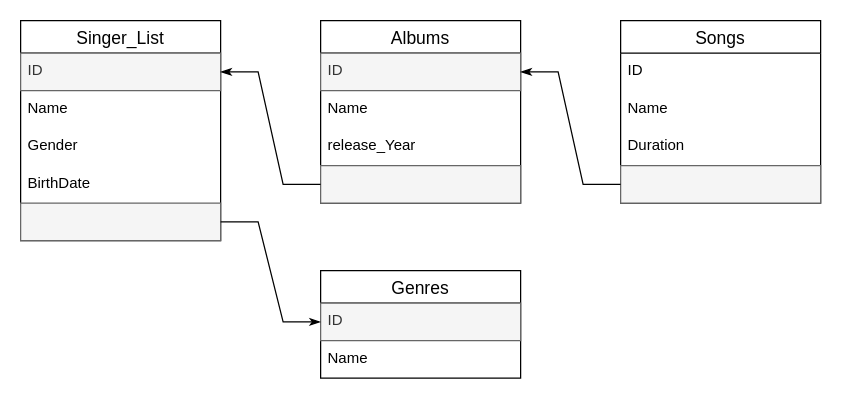
The diagram is 841 pixels wide and 399 high, and some of its shapes have lost their labels. The shapes that lost their labels are listed below. From the top down, each one's centre as x and y in pixels, then its label:
At point (420, 183): "Singer_ID".
At point (720, 183): "Album_ID".
At point (120, 221): "Genre_ID".
